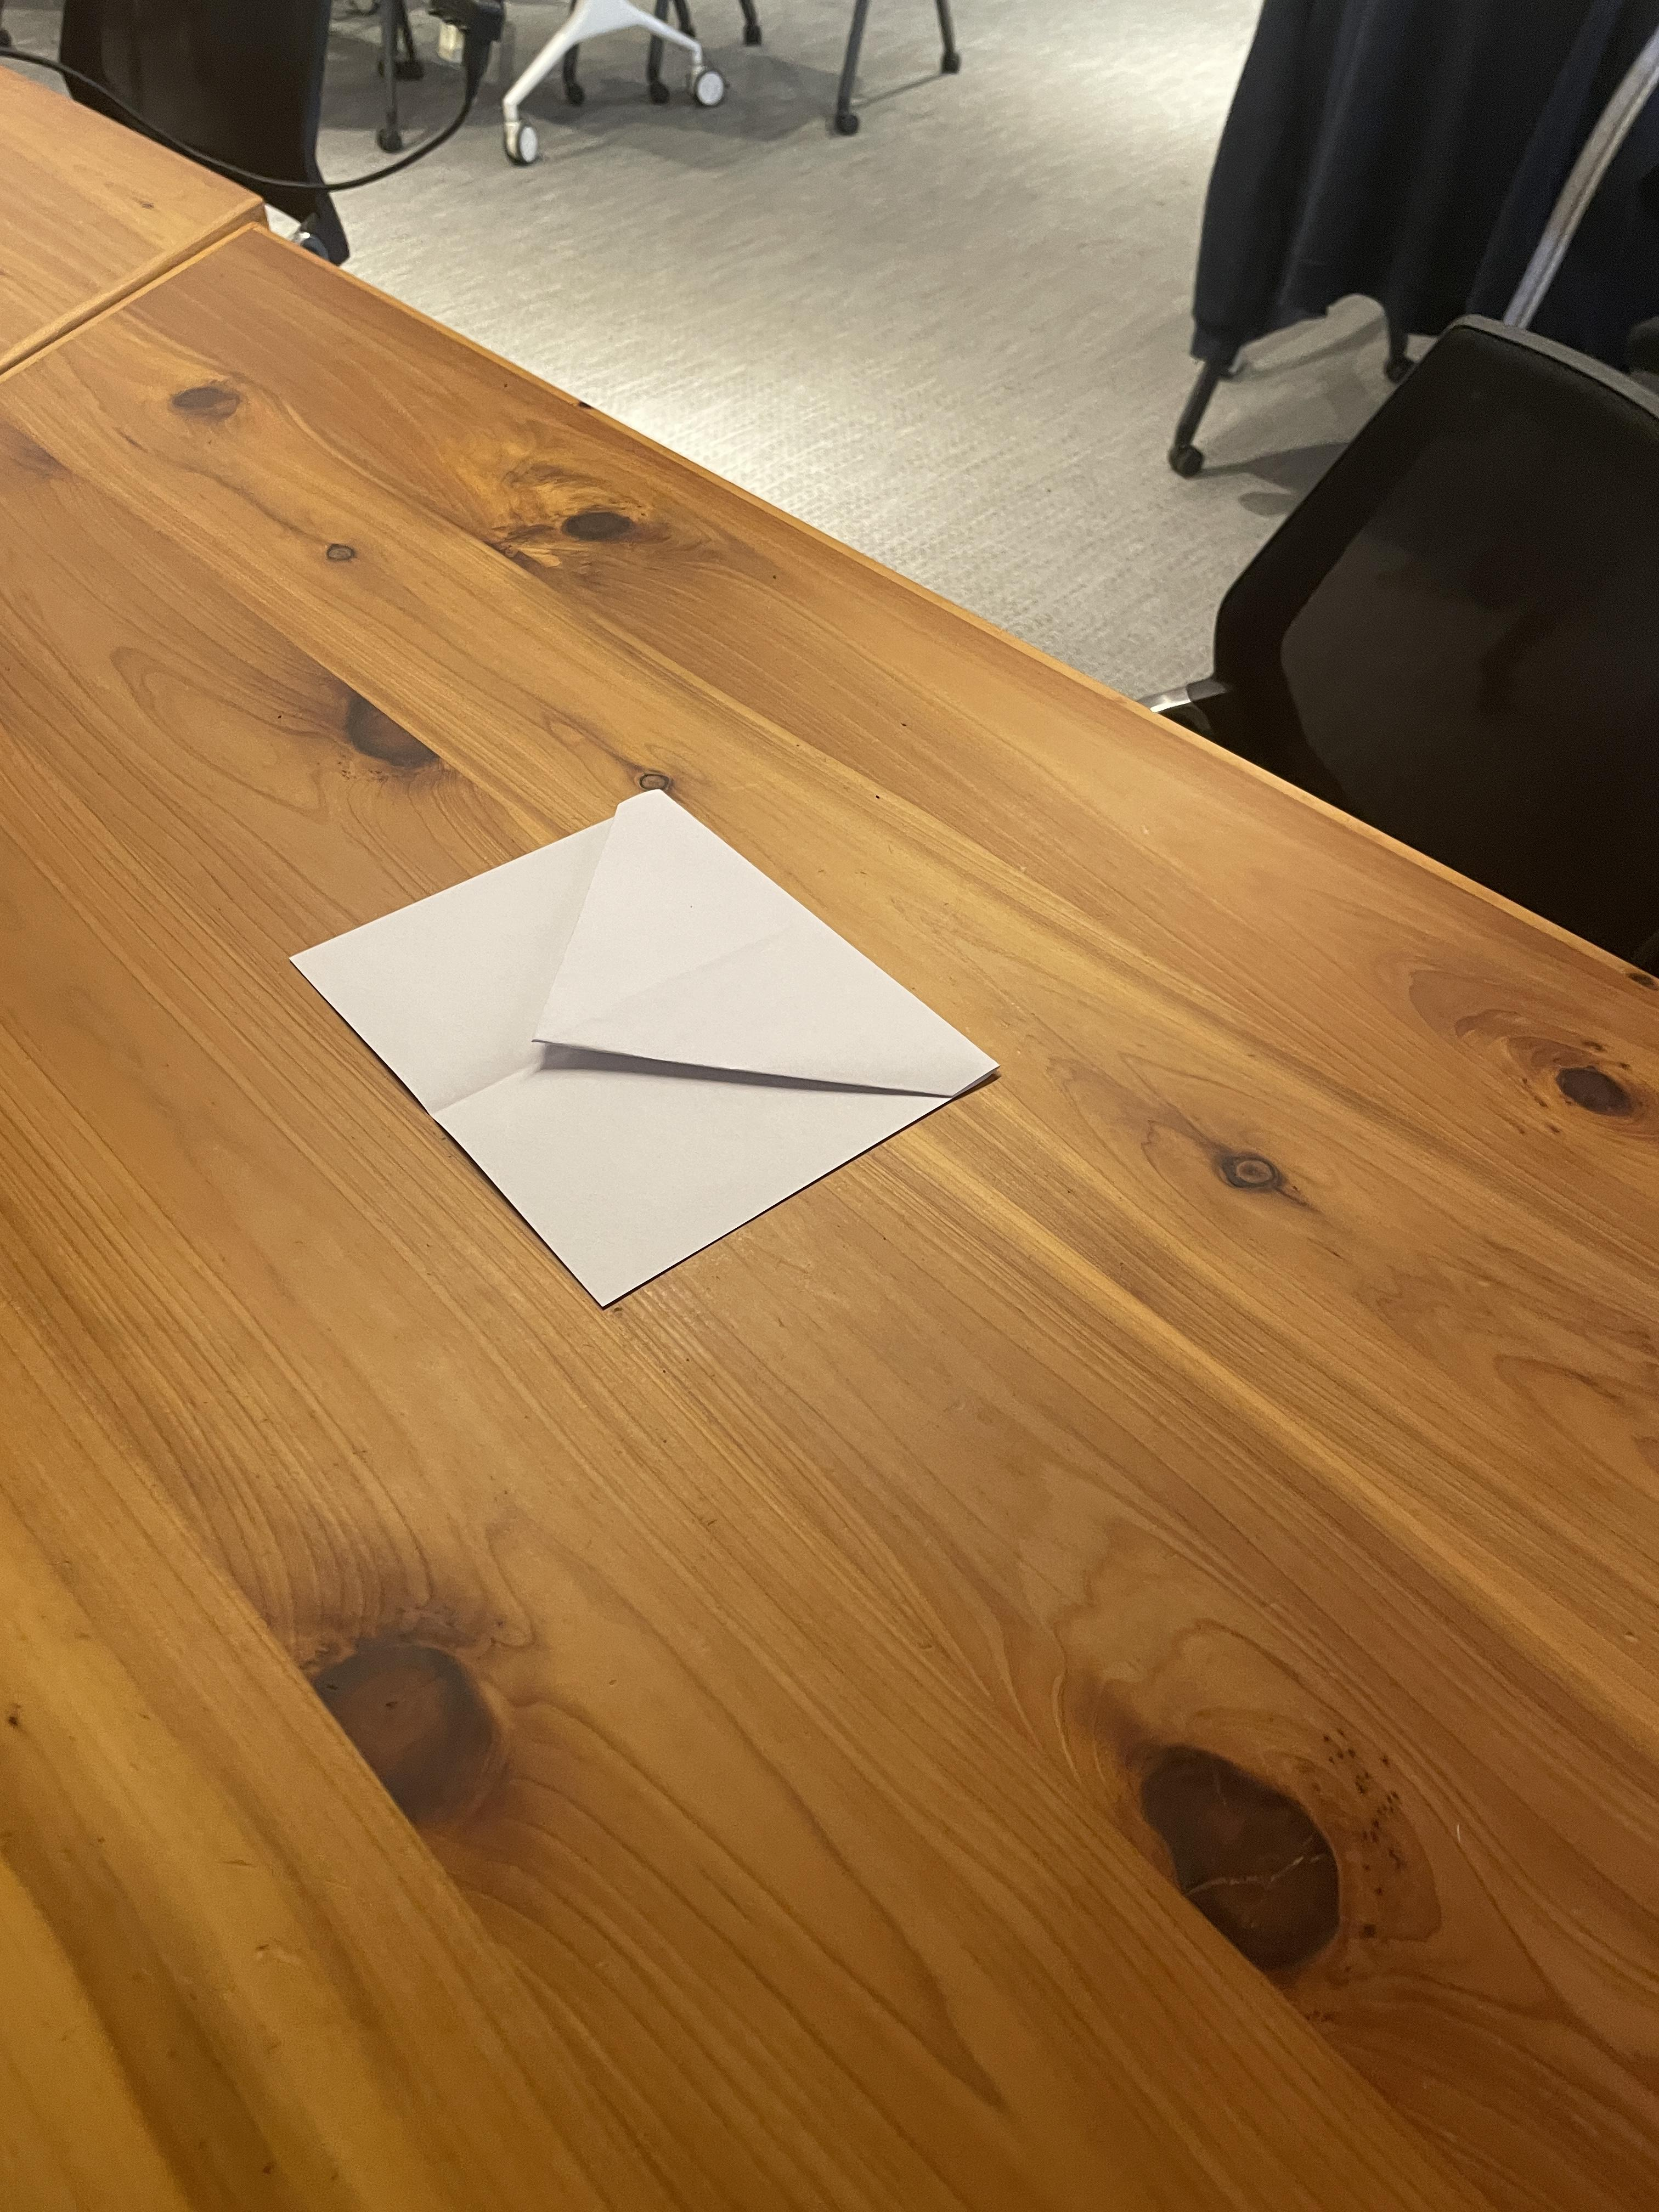shape_1: (186, 566, 1087, 1446)
